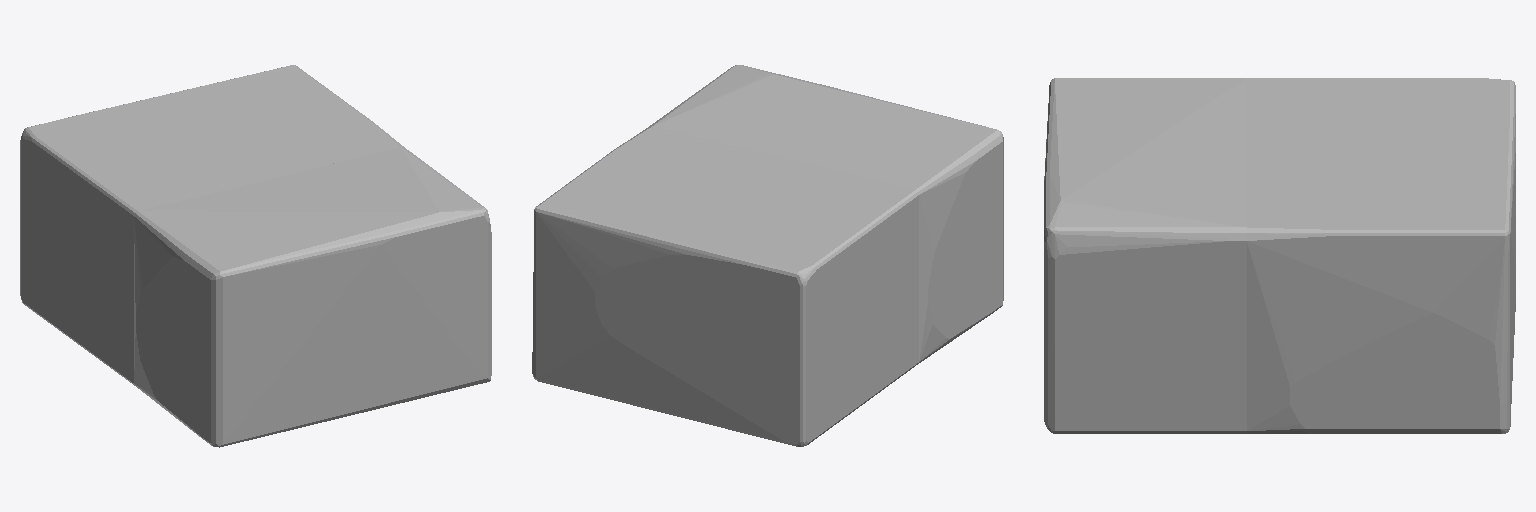
URDF robot description (root):
<robot name="root">
  <link name="link_coacd_convex_piece_0">
    <inertial>
      <origin xyz="0 0 0" rpy="0 0 0"/>
      <inertia ixx="1.29E-01" ixy="-2.51E-04" ixz="-5.10E-04" iyy="1.74E-01" iyz="-8.52E-04" izz="9.92E-02"/>
    </inertial>
    <visual>
      <origin xyz="0 0 0" rpy="0 0 0"/>
      <geometry>
        <mesh filename="coacd_convex_piece_0.obj" scale="1.0000E+00 1.0000E+00 1.0000E+00"/>
      </geometry>
      <material name="">
        <color rgba="7.50E-01 7.50E-01 7.50E-01 1"/>
      </material>
    </visual>
    <collision>
      <origin xyz="0 0 0" rpy="0 0 0"/>
      <geometry>
        <mesh filename="coacd_convex_piece_0.obj" scale="1.0000E+00 1.0000E+00 1.0000E+00"/>
      </geometry>
    </collision>
  </link>
  <link name="link_coacd_convex_piece_1">
    <inertial>
      <origin xyz="0 0 0" rpy="0 0 0"/>
      <inertia ixx="1.20E-01" ixy="9.40E-05" ixz="-5.16E-04" iyy="1.54E-01" iyz="-5.49E-04" izz="7.44E-02"/>
    </inertial>
    <visual>
      <origin xyz="0 0 0" rpy="0 0 0"/>
      <geometry>
        <mesh filename="coacd_convex_piece_1.obj" scale="1.0000E+00 1.0000E+00 1.0000E+00"/>
      </geometry>
      <material name="">
        <color rgba="7.50E-01 7.50E-01 7.50E-01 1"/>
      </material>
    </visual>
    <collision>
      <origin xyz="0 0 0" rpy="0 0 0"/>
      <geometry>
        <mesh filename="coacd_convex_piece_1.obj" scale="1.0000E+00 1.0000E+00 1.0000E+00"/>
      </geometry>
    </collision>
  </link>
  <joint name="link_coacd_convex_piece_1_joint" type="fixed">
    <origin xyz="0 0 0" rpy="0 0 0"/>
    <parent link="link_coacd_convex_piece_0"/>
    <child link="link_coacd_convex_piece_1"/>
  </joint>
</robot>

--- Facts derived from the render (not from the file) ---
The picture shows the robot from 3 angles, left to right: view 1: azimuth 30°, elevation 25°; view 2: azimuth 150°, elevation 25°; view 3: azimuth 270°, elevation 25°; orthographic projection.
Robot: root — 2 links, 1 joints (1 fixed); root link link_coacd_convex_piece_0; default pose: all joints at 0.
Visible links, largest first — view 1: link_coacd_convex_piece_1, link_coacd_convex_piece_0; view 2: link_coacd_convex_piece_0, link_coacd_convex_piece_1; view 3: link_coacd_convex_piece_0, link_coacd_convex_piece_1.
Link boxes in pixels (box(x1,y1,x2,y2)): link_coacd_convex_piece_1: box(134, 147, 491, 447); link_coacd_convex_piece_0: box(20, 65, 404, 385); link_coacd_convex_piece_0: box(532, 126, 918, 446); link_coacd_convex_piece_1: box(649, 65, 1003, 363); link_coacd_convex_piece_0: box(1247, 78, 1515, 433); link_coacd_convex_piece_1: box(1044, 78, 1246, 433).
Bounding box of the posed robot: 1.18 × 1.47 × 0.7322 m (x, y, z).
Meshes: 2 distinct files referenced, 2 mesh visuals loaded (2 OBJ).
